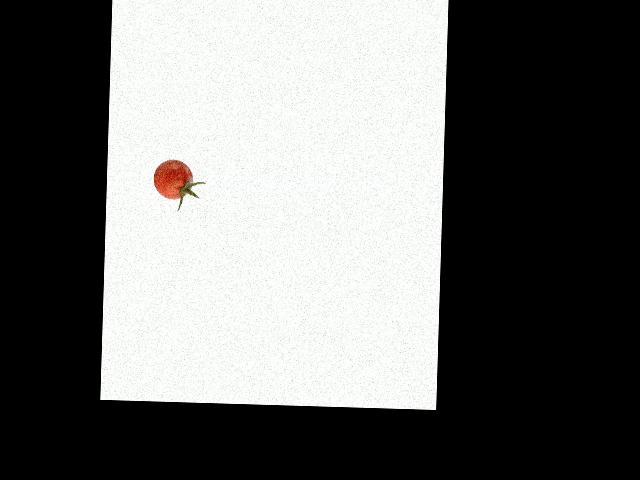tomato: (152, 158, 193, 199)
